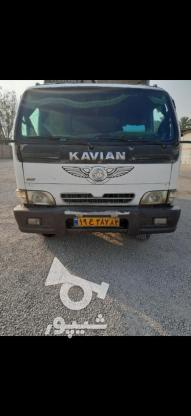car: (72, 216, 121, 228)
